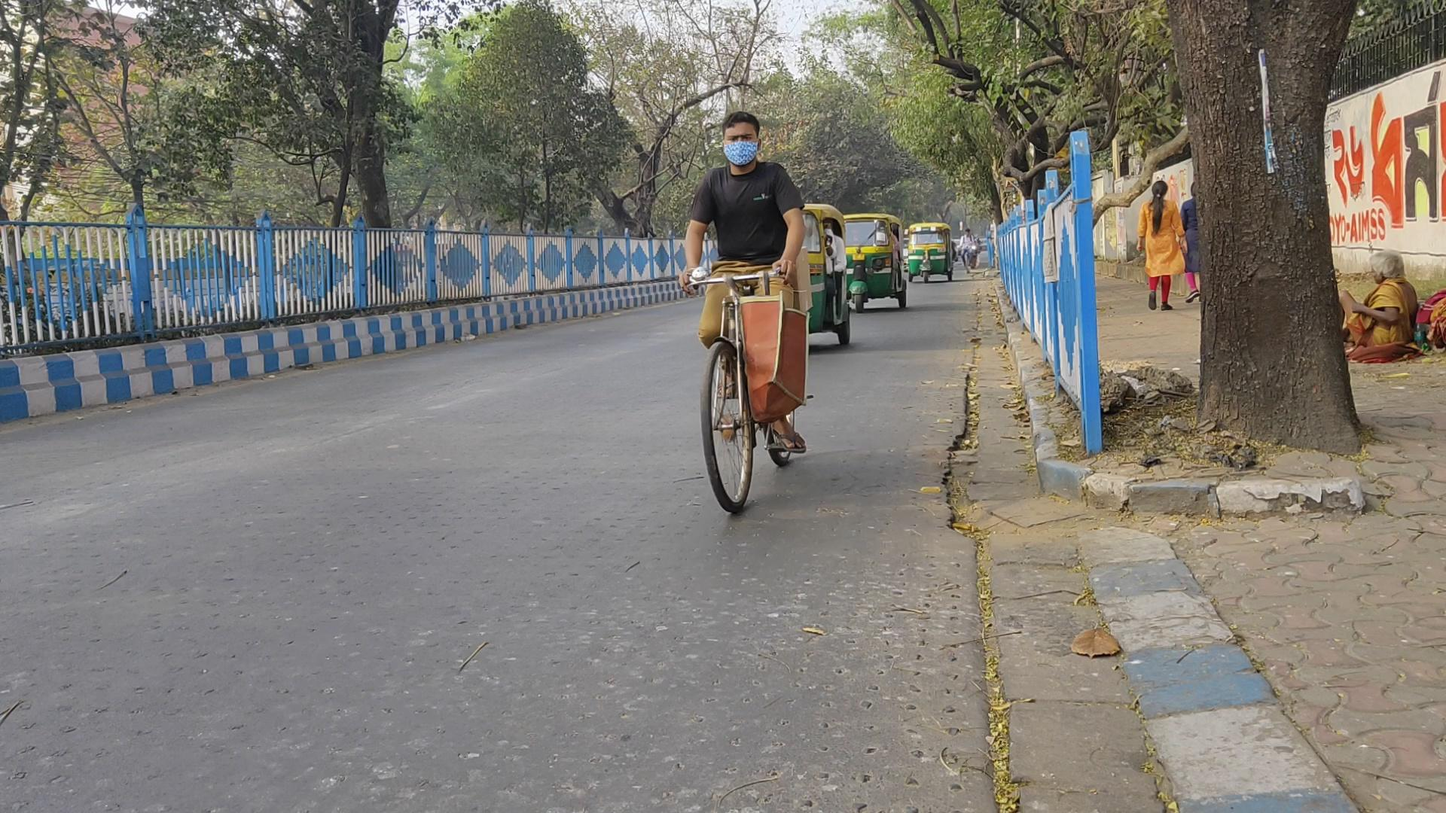Auto: (795, 200, 854, 352), (843, 210, 908, 312), (905, 222, 955, 283)
bike: (682, 109, 808, 513), (959, 228, 978, 275)
